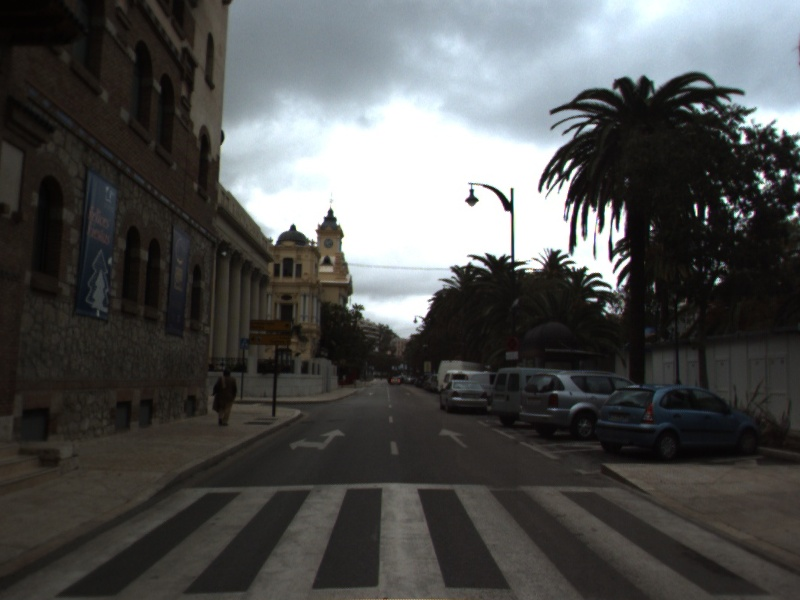STRAIGHT: (436, 426, 470, 450)
STRAIGHT_LEFT: (287, 427, 348, 453)
